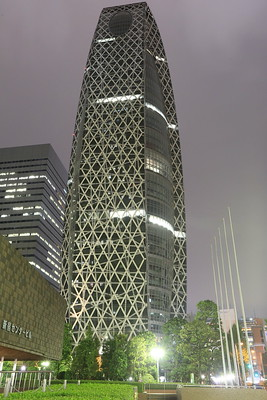medium: (38, 0, 190, 385)
